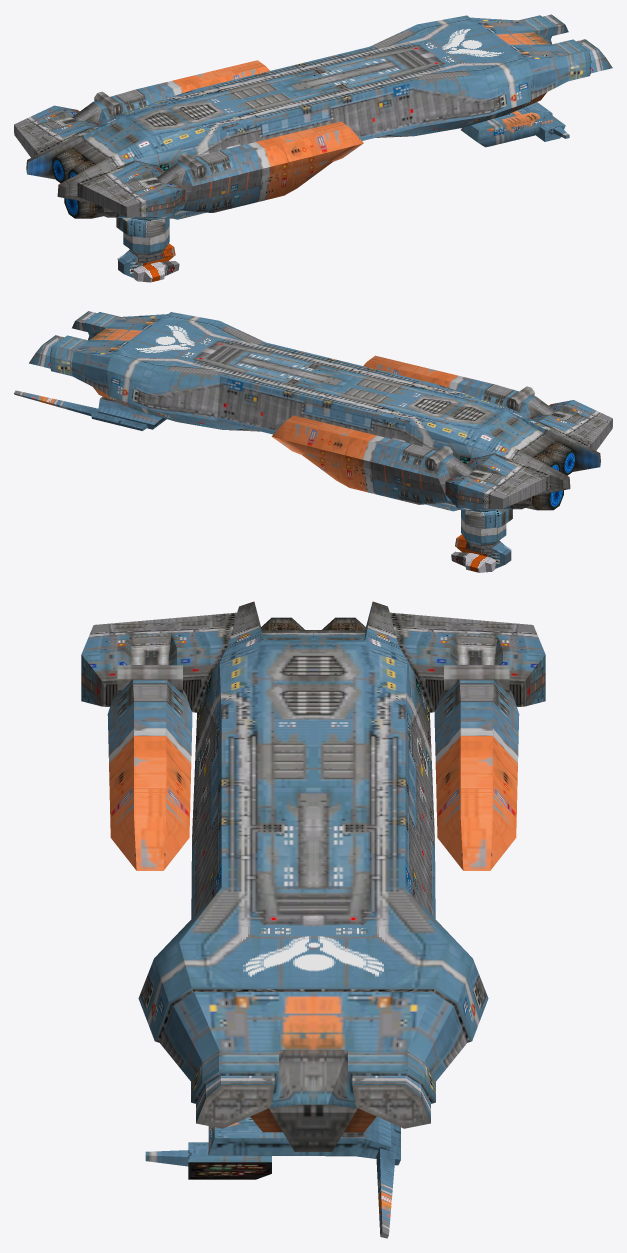
The model's file is Fleet_Procyon_Frigate.FBX.
3 views of the same model, one above another, from view 1: azimuth 30°, elevation 25°; view 2: azimuth 150°, elevation 25°; view 3: azimuth 270°, elevation 25° (orthographic). The views are drawn at different scales.
Visible parts, largest first — view 1: group1, group2, group11, group12, group4, group3, group13, group14; view 2: group1, group11, group2, group12, group4, group3, group13, group15; view 3: group1, group2, group11, group4.
Part boxes in pixels (box(x1,y1,x2,y2)): group1: box(26, 15, 591, 255); group2: box(14, 14, 612, 218); group11: box(72, 60, 363, 191); group12: box(179, 160, 333, 212); group4: box(417, 25, 515, 66); group3: box(27, 118, 120, 218); group13: box(118, 243, 175, 278); group14: box(133, 261, 179, 282); group1: box(14, 312, 600, 545); group11: box(271, 355, 556, 484); group2: box(29, 311, 612, 510); group12: box(301, 453, 451, 504); group4: box(123, 321, 219, 362); group3: box(509, 412, 600, 509); group13: box(455, 534, 511, 568); group15: box(451, 551, 495, 572); group1: box(138, 601, 488, 1238); group2: box(81, 612, 545, 1179); group11: box(107, 665, 519, 870); group4: box(242, 927, 384, 987).
Bounding box in the file's own units: 130 × 32.91 × 47.42.
